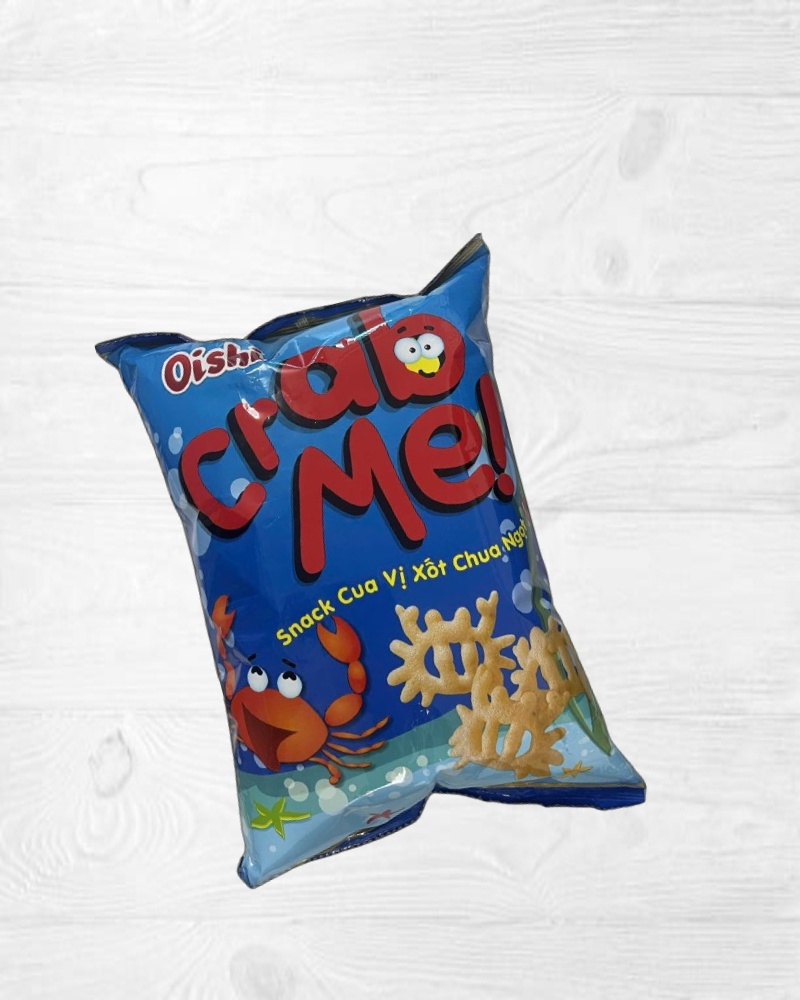Snack cua: (93, 229, 649, 903)
